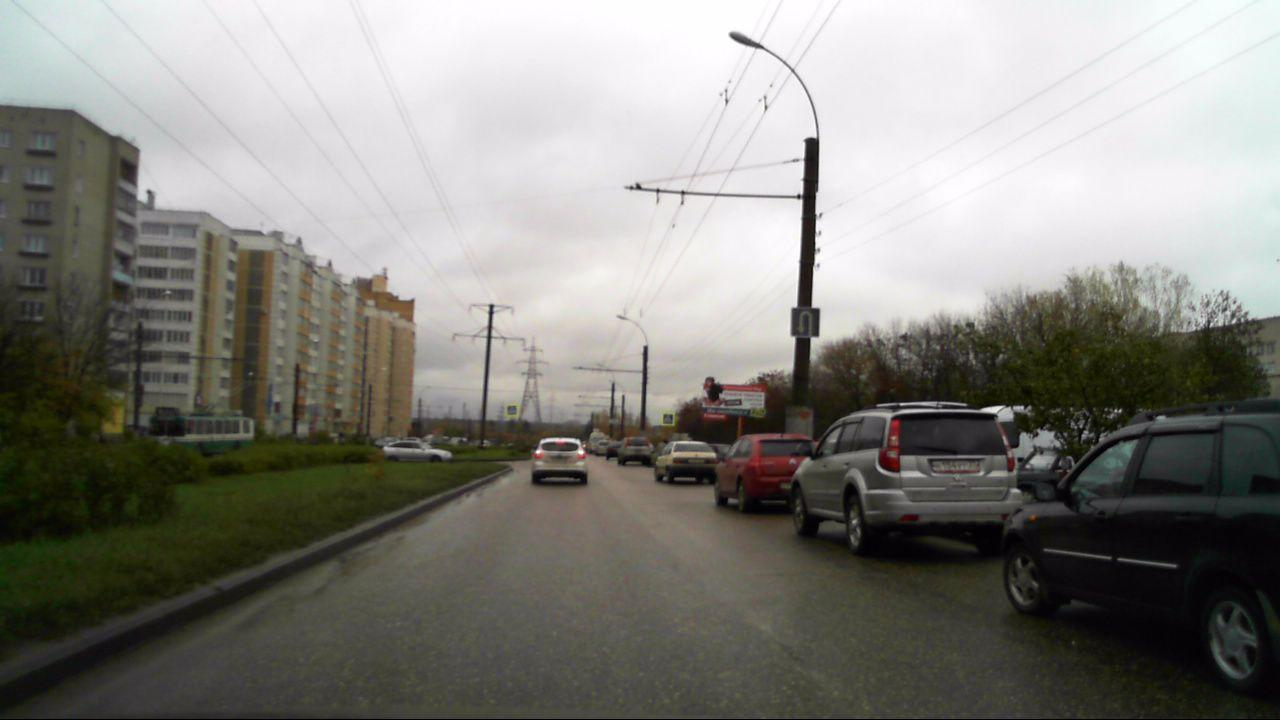6_3_1: (789, 305, 821, 339)
